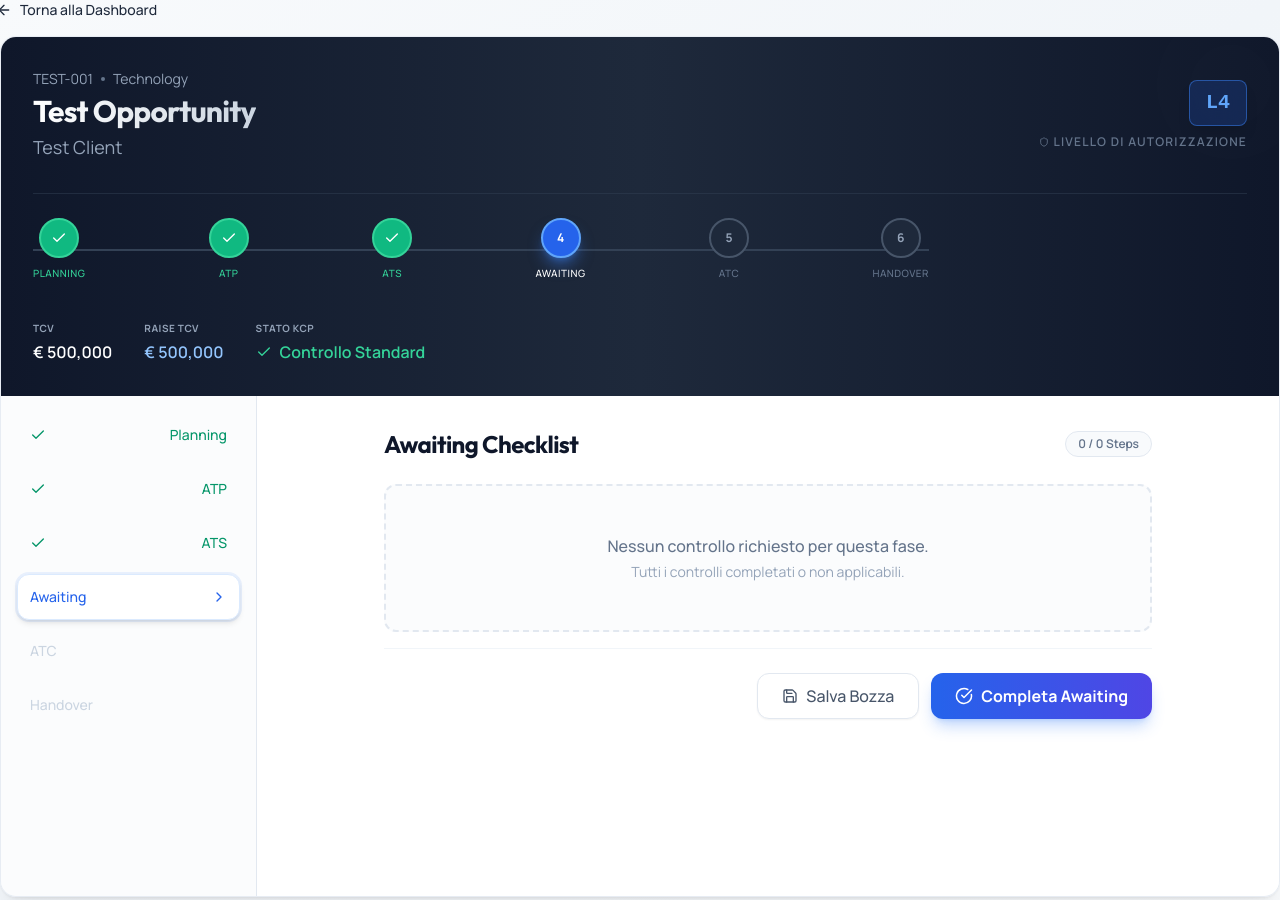
Test: OpportunityWorkflow › Phase Completion › should show outcome modal after Awaiting completion (Win/Lost decision)
// Awaiting phase may have no mandatory checkpoints, just complete it
Click the button "Completa Awaiting" at [1042, 696], box [931,673,1152,719]
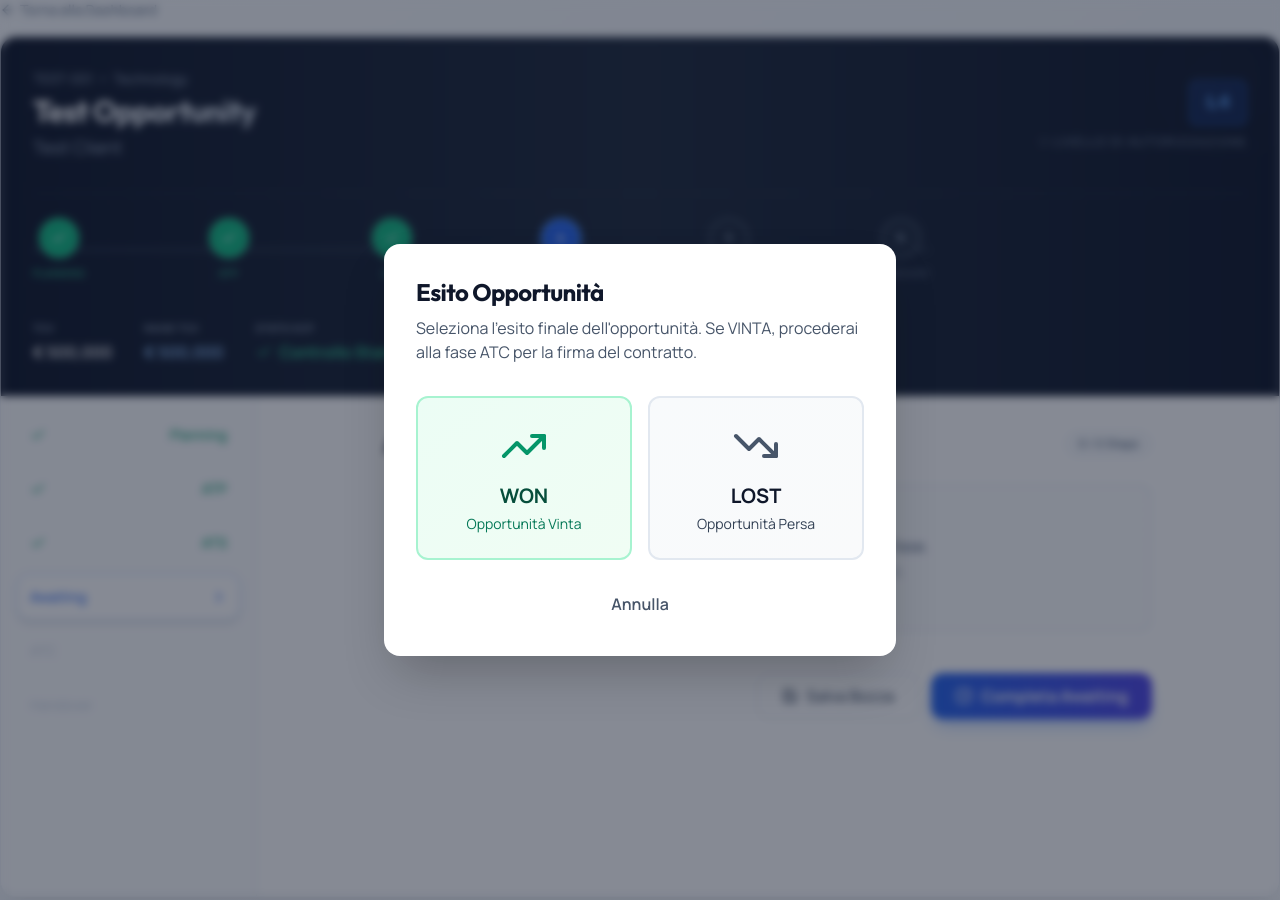
Now the heading "Esito Opportunità" is shown, box [416,277,604,307]
Now the text "WON" is shown, box [500,482,548,510]
Now the text "LOST" is shown, box [731,482,781,510]
